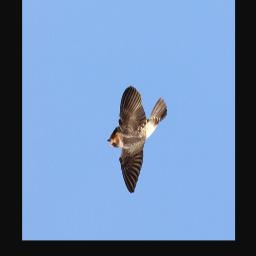Swallow: (105, 84, 168, 195)
